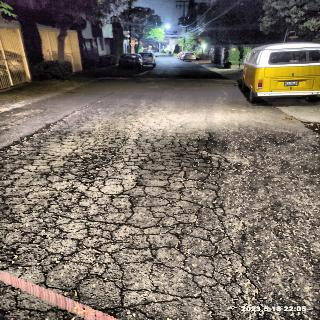alligator-crack: (0, 124, 258, 320)
